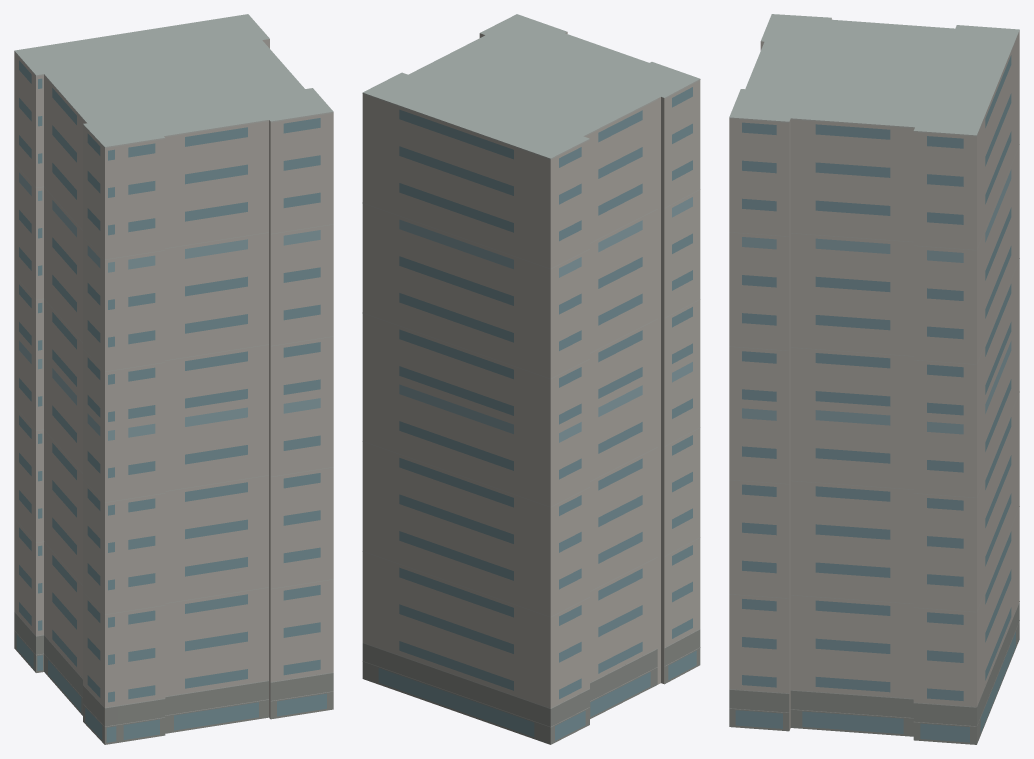
Rendered from survey-upis-32820475.glb.
3 views of the same model, side by side, from view 1: azimuth 30°, elevation 25°; view 2: azimuth 150°, elevation 25°; view 3: azimuth 270°, elevation 25° (orthographic). The views are drawn at different scales.
Visible parts, largest first — view 1: survey-upis-32820475.tmp; view 2: survey-upis-32820475.tmp; view 3: survey-upis-32820475.tmp.
Boxes of the visible parts, x1,y1,x2,y2 form: survey-upis-32820475.tmp: [14, 14, 333, 744]; survey-upis-32820475.tmp: [362, 14, 700, 744]; survey-upis-32820475.tmp: [729, 14, 1019, 744].
Bounding box in the file's own units: 50.42 × 118 × 51.01.
